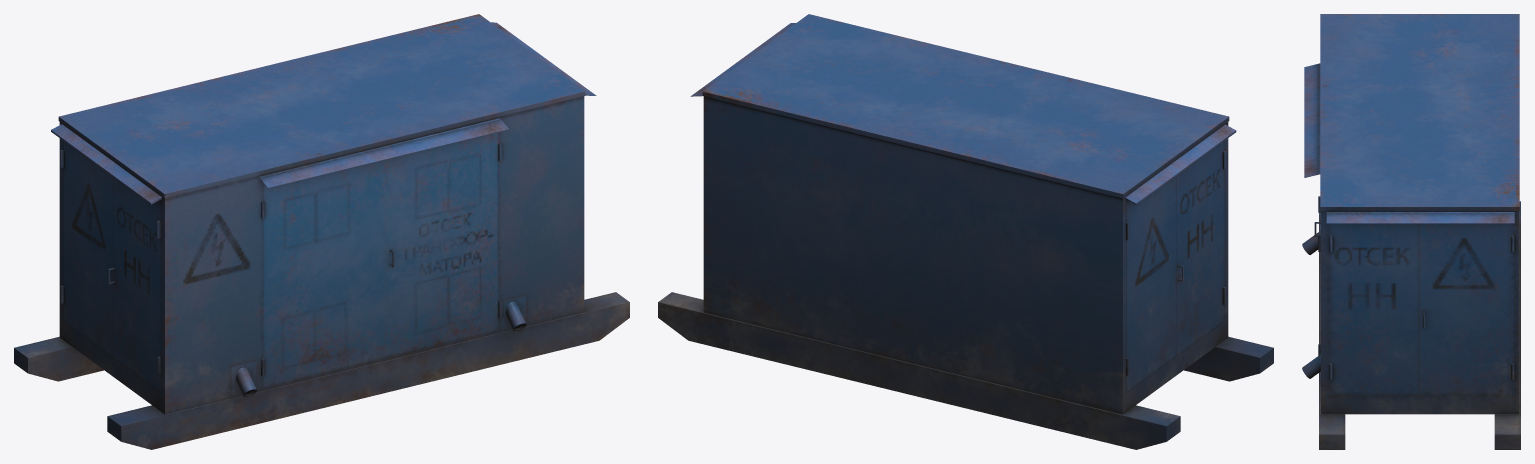
Rendered from model_transformator.fbx.
The picture shows the model from 3 angles, left to right: view 1: azimuth 30°, elevation 25°; view 2: azimuth 150°, elevation 25°; view 3: azimuth 270°, elevation 25°; orthographic projection. The views are drawn at different scales.
Visible parts, largest first — view 1: m_TransformerLP.1; view 2: m_TransformerLP.1; view 3: m_TransformerLP.1.
Boxes of the visible parts, x1,y1,x2,y2 form: m_TransformerLP.1: (14,14,629,449); m_TransformerLP.1: (658,14,1273,449); m_TransformerLP.1: (1302,14,1520,449).
Size of the model in its own units: 2 by 0.9466 by 0.7924.
Materials: 1 (1 with a texture image).
